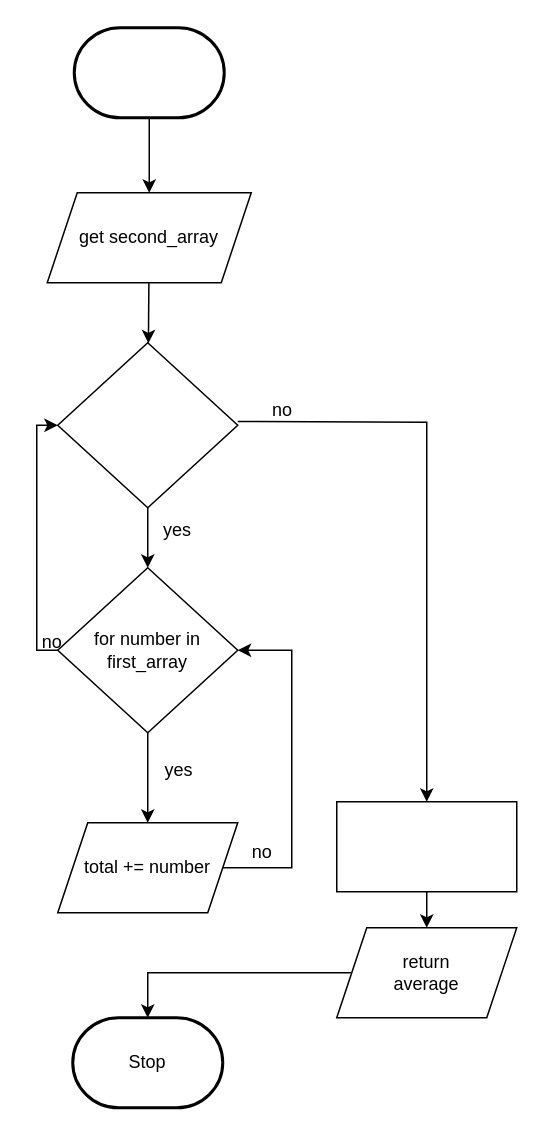
Image size: 543x1134. Some labels were removed from this diagram. Each missing label, with the centre of its shape:
2d_array: the point at 148,72
average = total / (rows * columns): the point at 426,846
for first_array in second_array: the point at 147,424
